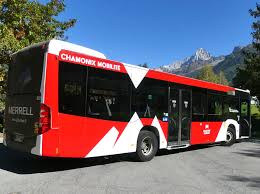bus: (2, 39, 253, 163)
